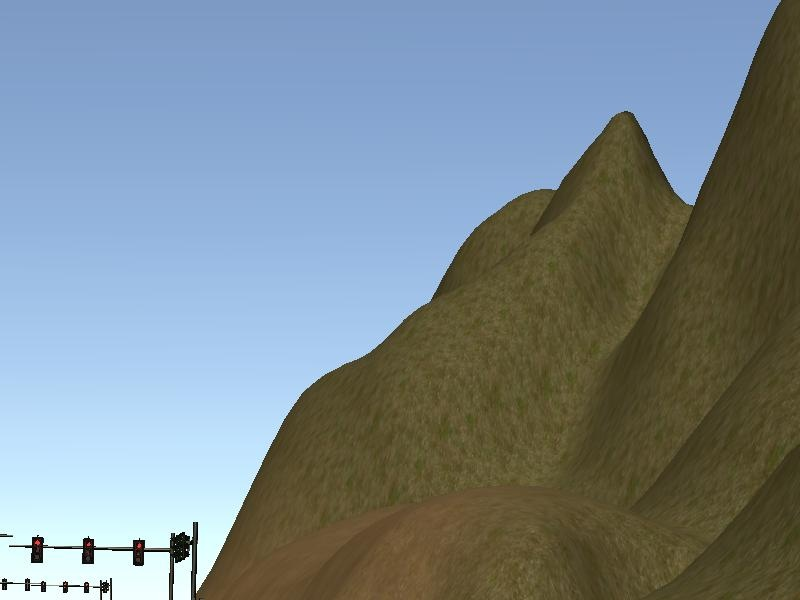traffic_light_red: (7, 534, 170, 568)
